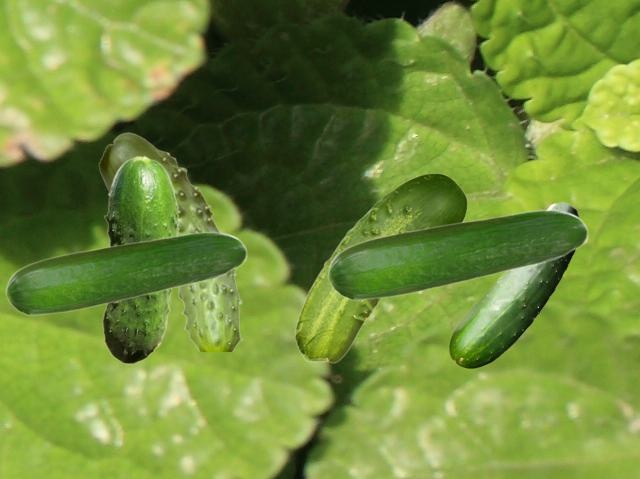cucumber: (294, 173, 466, 362), (98, 132, 242, 350), (327, 209, 587, 300), (449, 202, 578, 367), (5, 231, 246, 315), (102, 155, 179, 363)
